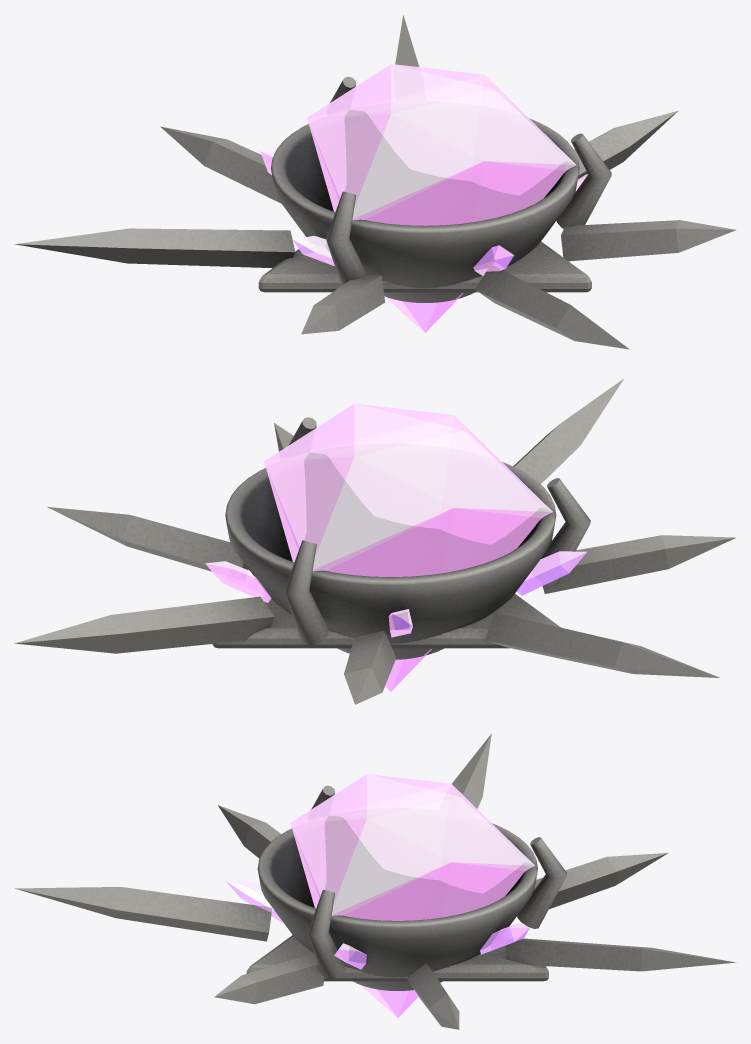
Rendered from item_joia_vazio_v2.glb.
3 views of the same model, one above another, from view 1: azimuth 30°, elevation 25°; view 2: azimuth 150°, elevation 25°; view 3: azimuth 270°, elevation 25° (orthographic). The views are drawn at different scales.
Parts seen in each view (by area): view 1: item_joia_vazio, gema, caco3, caco2; view 2: item_joia_vazio, gema, caco2, caco0, caco1; view 3: item_joia_vazio, gema, caco3, caco0, caco4.
Part boxes in pixels (bbox=[...]): item_joia_vazio: bbox=[15, 15, 735, 349]; gema: bbox=[307, 64, 576, 332]; caco3: bbox=[473, 245, 514, 275]; caco2: bbox=[292, 236, 334, 265]; item_joia_vazio: bbox=[14, 378, 735, 704]; gema: bbox=[264, 403, 552, 691]; caco2: bbox=[517, 551, 587, 595]; caco0: bbox=[205, 561, 271, 602]; caco1: bbox=[388, 609, 412, 637]; item_joia_vazio: bbox=[14, 734, 736, 1029]; gema: bbox=[290, 774, 534, 1017]; caco3: bbox=[225, 880, 282, 922]; caco0: bbox=[480, 923, 529, 954]; caco4: bbox=[334, 943, 366, 969].
Size of the model in its own units: 0.1103 by 0.0398 by 0.1176.
7 materials, 1 textured.
